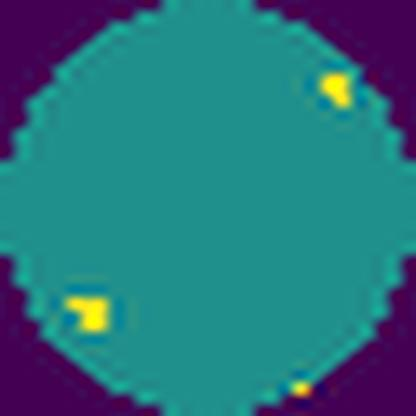Loc: (60, 294, 113, 332), (319, 72, 356, 110)
